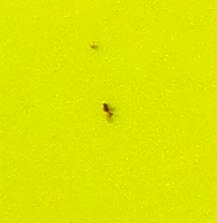Hymenoptera: (100, 100, 117, 123)
